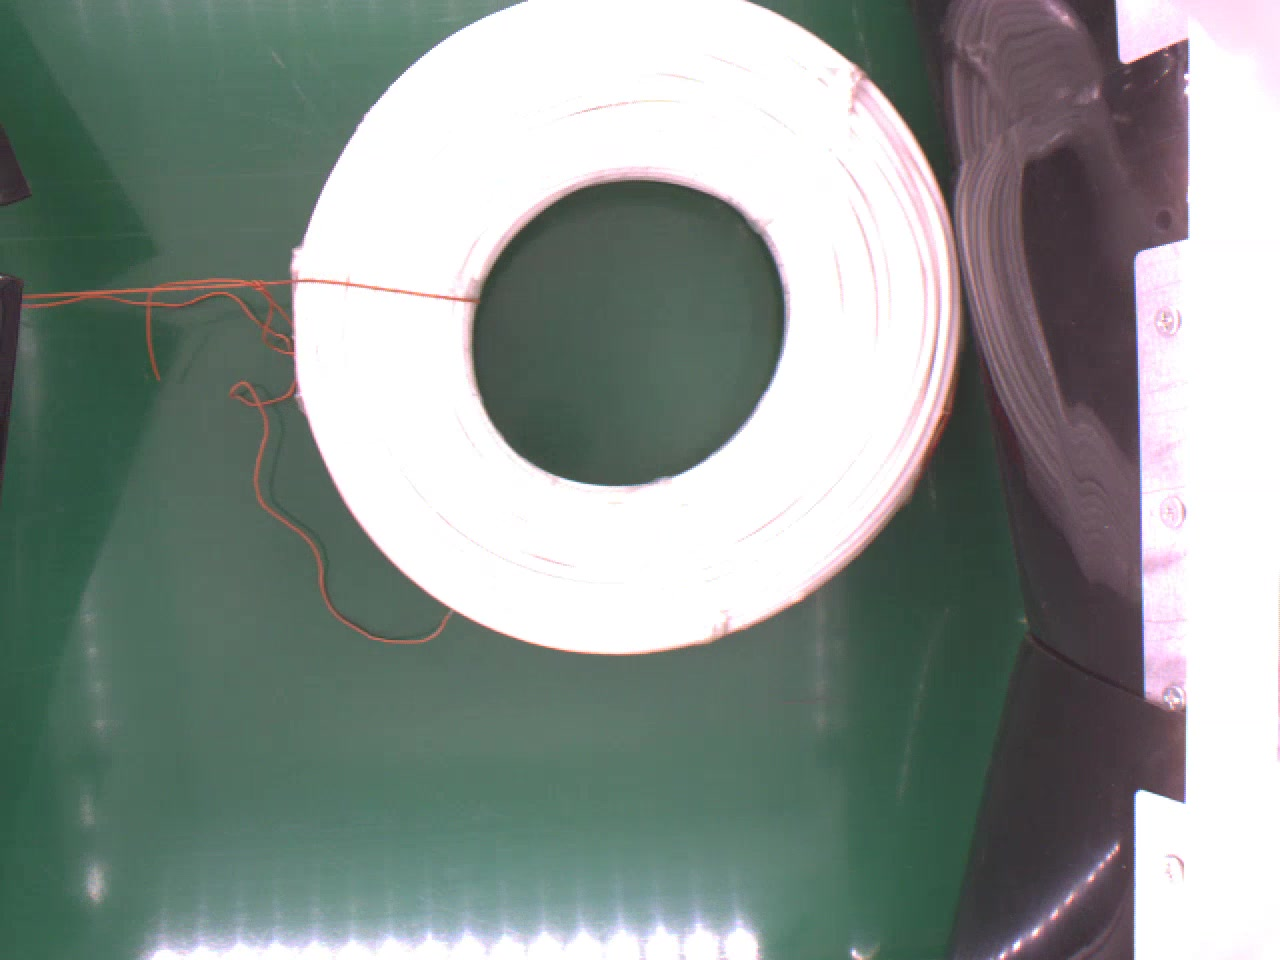white: (287, 0, 963, 654)
